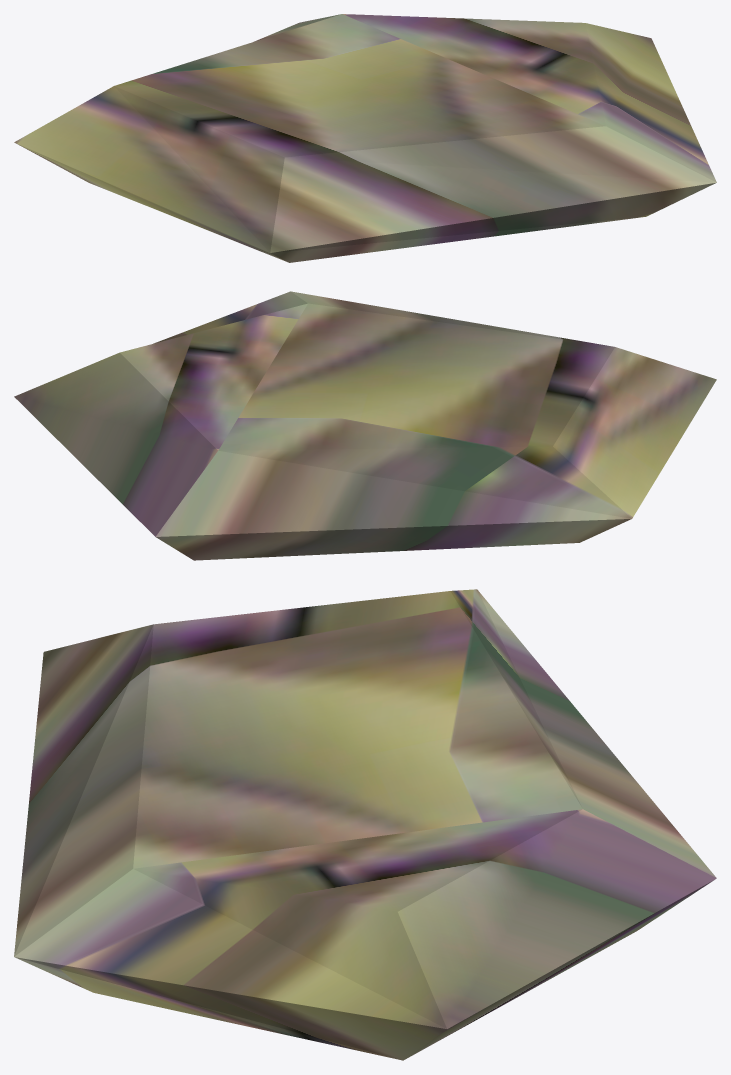
The model's file is PlateTree_1_Plate_3.gltf.
3 views of the same model, one above another, from view 1: azimuth 30°, elevation 25°; view 2: azimuth 150°, elevation 25°; view 3: azimuth 270°, elevation 25° (orthographic). The views are drawn at different scales.
Parts seen in each view (by area): view 1: PlateTree_1_Plate_3; view 2: PlateTree_1_Plate_3; view 3: PlateTree_1_Plate_3.
Boxes of the visible parts, x1,y1,x2,y2 form: PlateTree_1_Plate_3: (14,14,716,262); PlateTree_1_Plate_3: (14,291,716,560); PlateTree_1_Plate_3: (14,589,716,1060).
Size of the model in its own units: 1.34 by 0.2738 by 1.02.
Materials: 1 (1 with a texture image).
